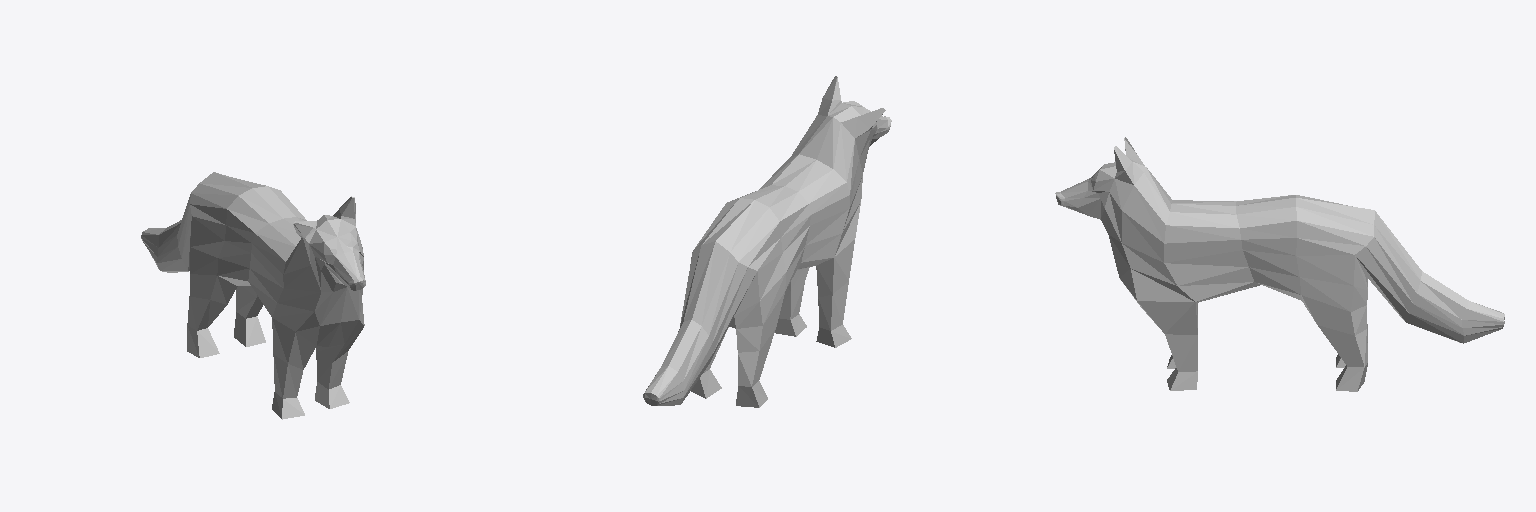
Rendered from fox.obj.
3 views of the same model, side by side, from view 1: azimuth 30°, elevation 25°; view 2: azimuth 150°, elevation 25°; view 3: azimuth 270°, elevation 25° (orthographic).
Parts seen in each view (by area): view 1: Fox; view 2: Fox; view 3: Fox.
Boxes of the visible parts, box(x1,y1,x2,y2) form: Fox: box(141, 172, 365, 419); Fox: box(643, 76, 891, 407); Fox: box(1055, 137, 1504, 391).
Bounding box in the file's own units: 2.35 × 6.51 × 11.35.